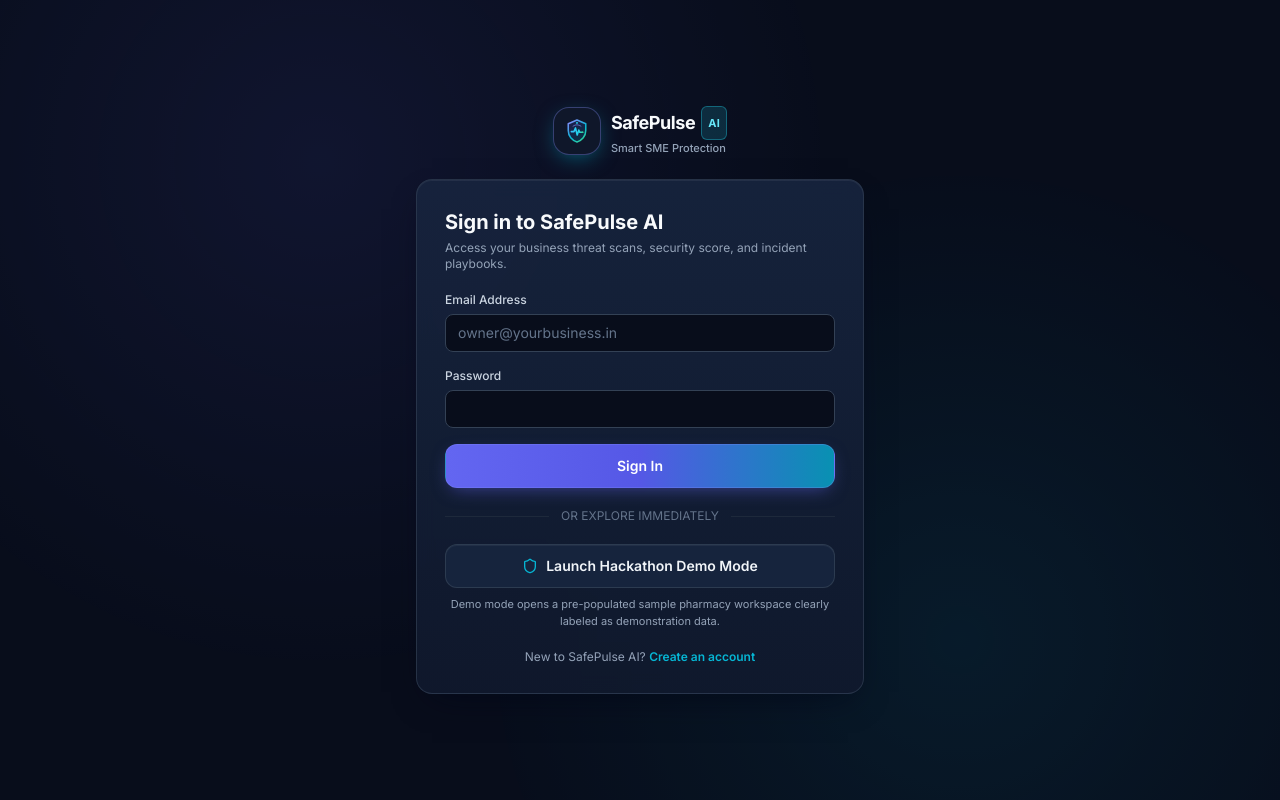
it: SafePulse AI Frontend › navigates to login and displays API error state on invalid credentials
In the field labelled "Email Address": (640, 333) [445,314,835,352], type "owner@shop.in"
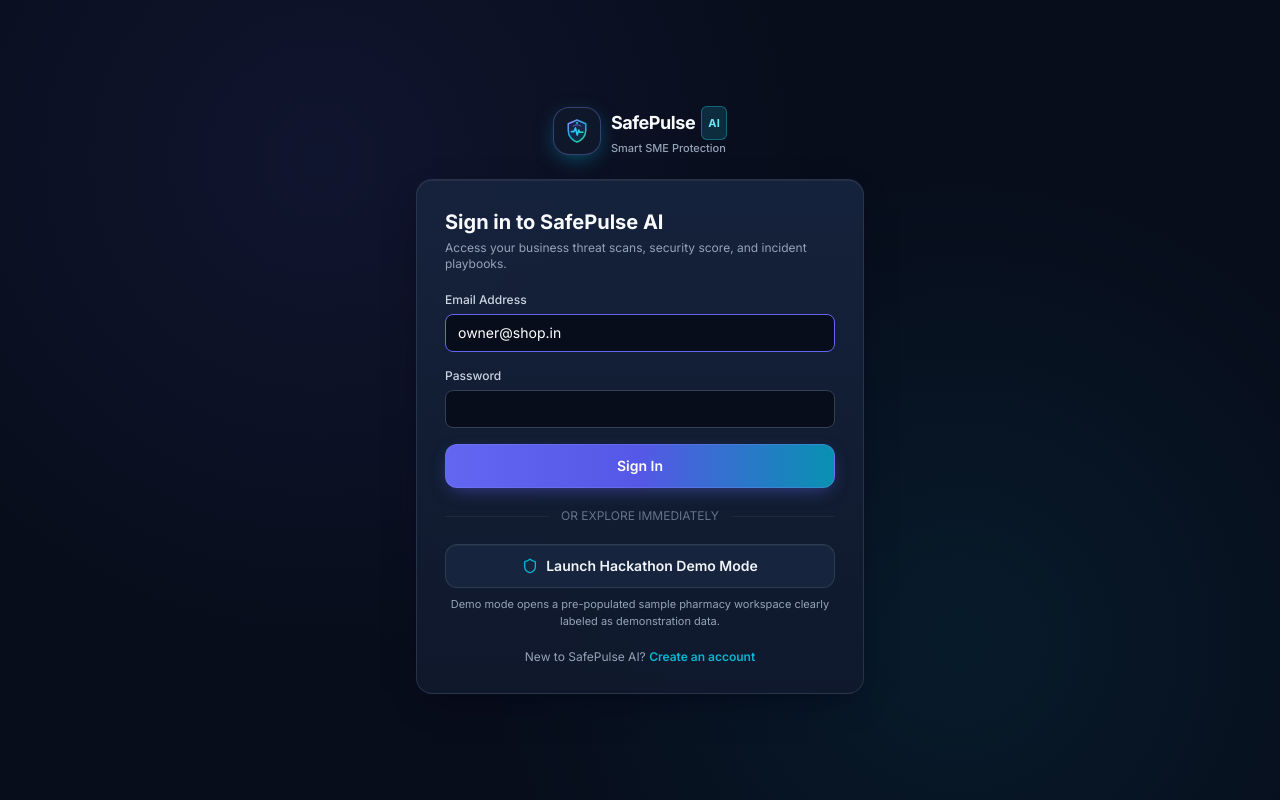
In the password field labelled "Password": (640, 409) [445,390,835,428], type "wrongpass"
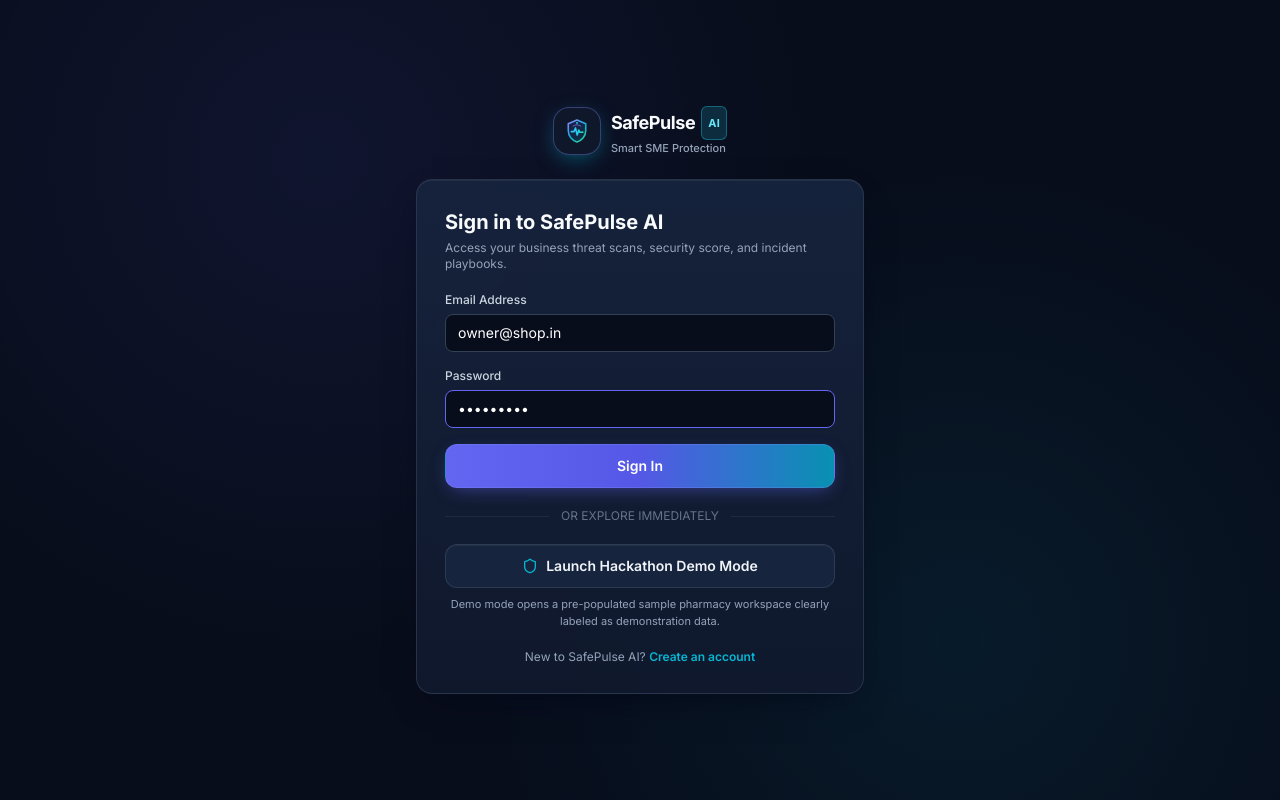
Click the button "Sign In": (640, 466) [445,444,835,488]
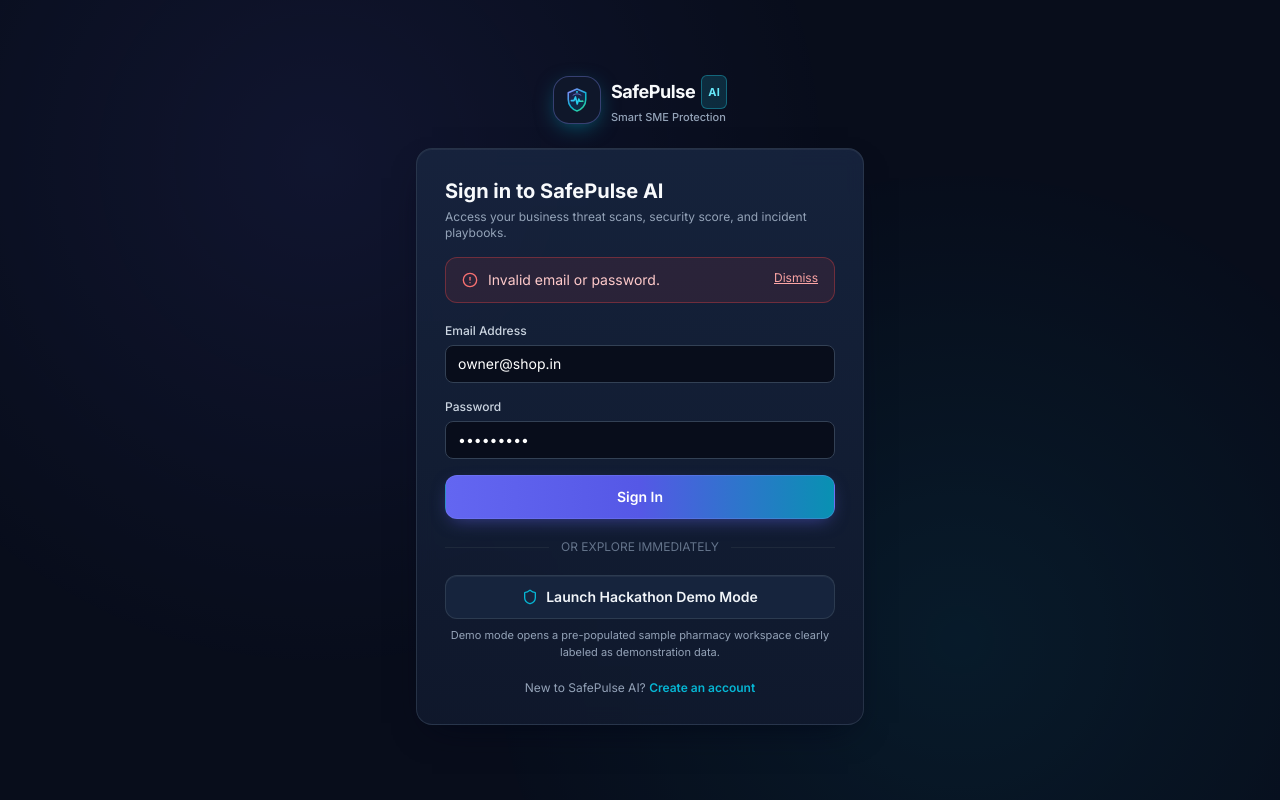
Result: the message shows "Invalid email or password." at [488,271,660,288]
